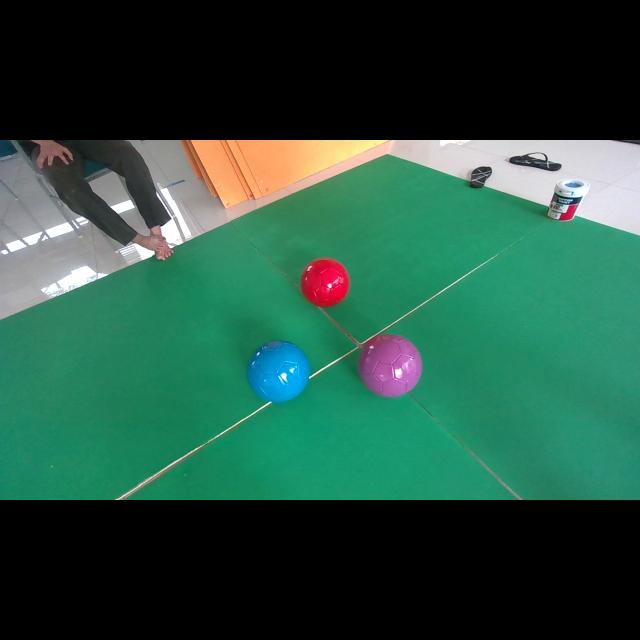B: (248, 340, 310, 402)
P: (358, 334, 422, 397)
R: (301, 258, 350, 308)
